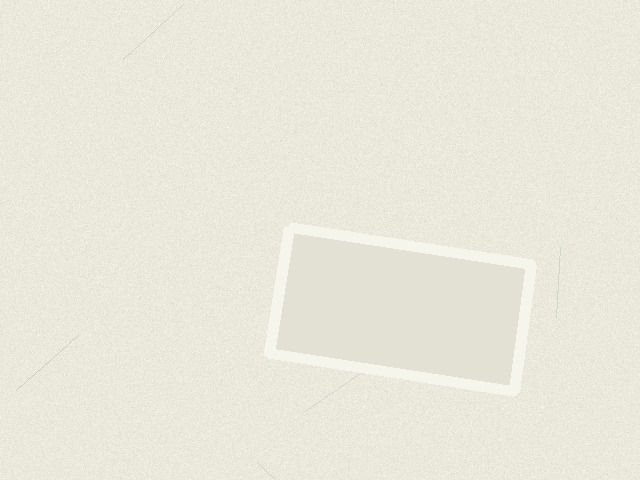parking_area: (269, 227, 531, 391)
